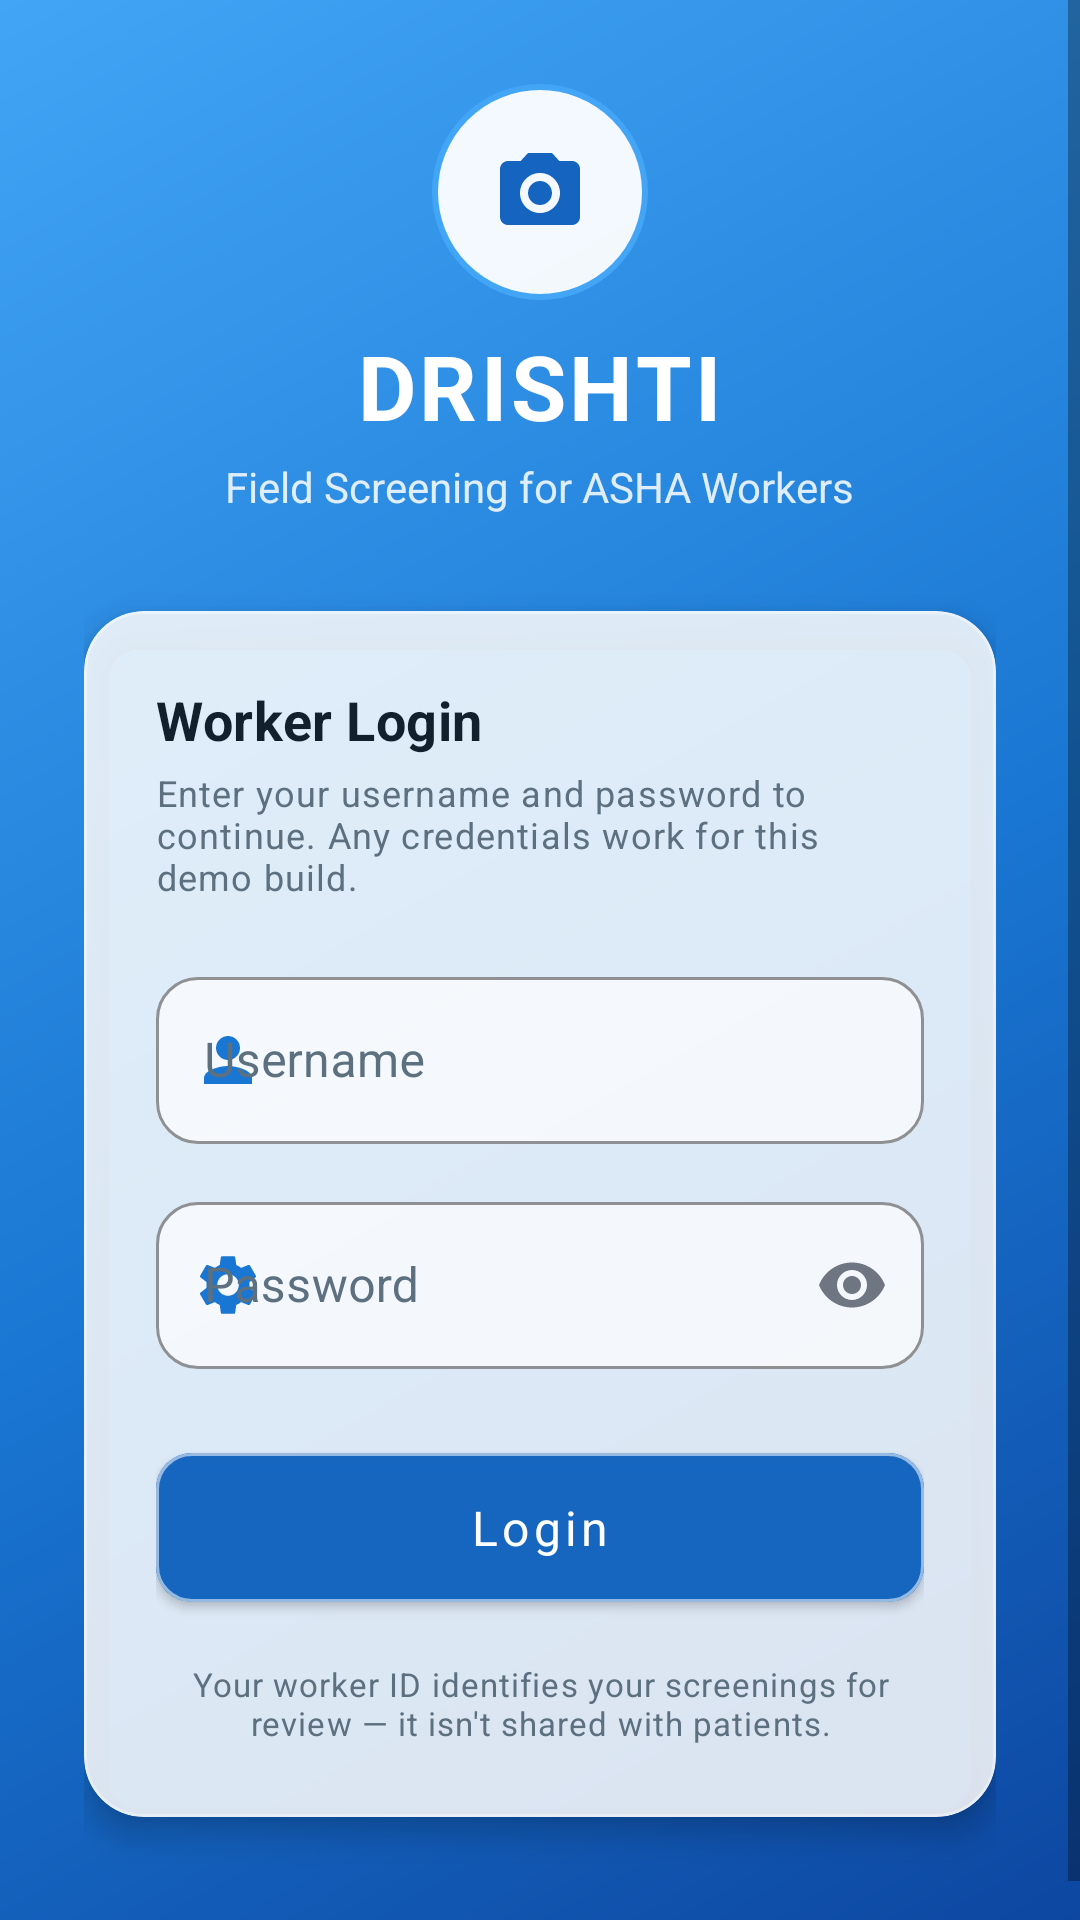

Icons on this 1080px×1920px Android screen, each with its box as (x1, y1, x2, y2):
camera: (500, 153, 580, 225)
